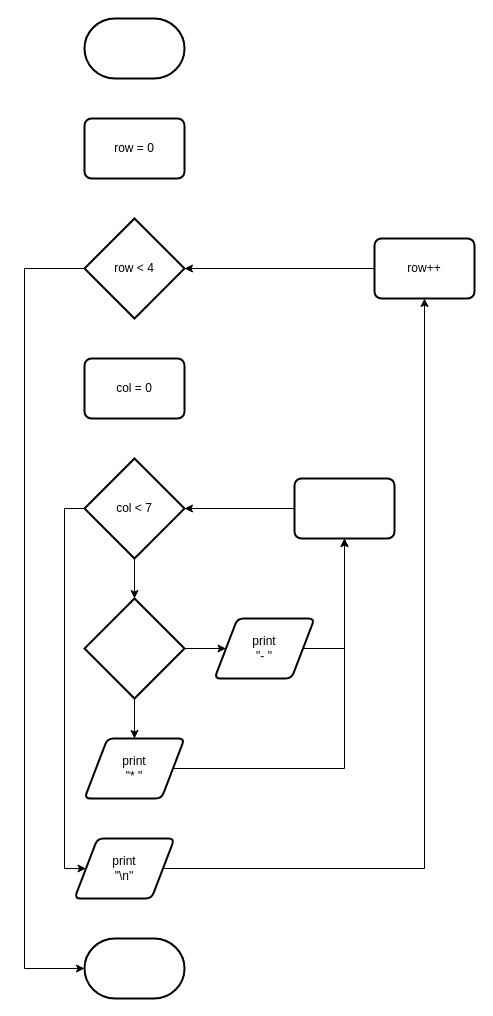
The diagram is 493 pixels wide and 1016 high, and some of its shapes have lost their labels. Here are the shapes that lost their labels. From the top down, the box of each, then its label:
(83, 17, 185, 79): Start
(293, 477, 395, 539): col++
(83, 597, 185, 699): row < 2 && col < 3
(83, 937, 185, 999): End
